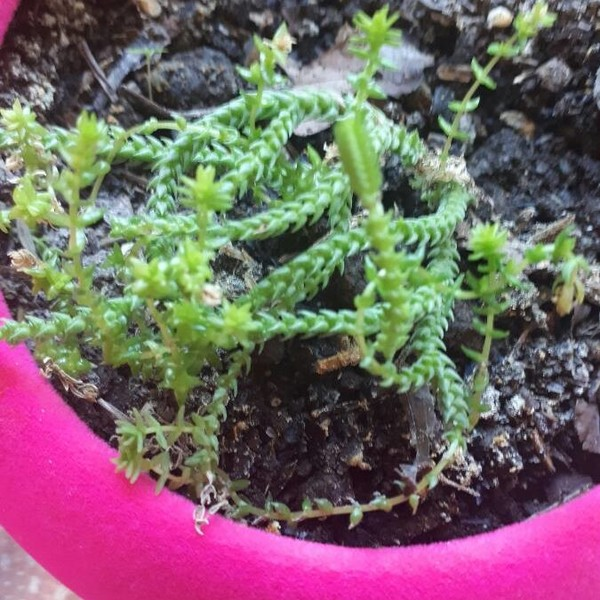obstacle: (11, 55, 536, 513)
